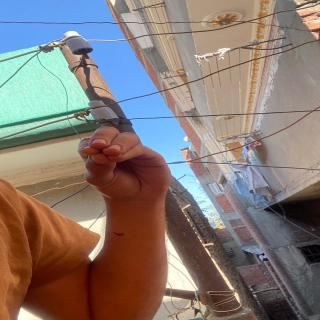HA: (68, 120, 169, 198)
